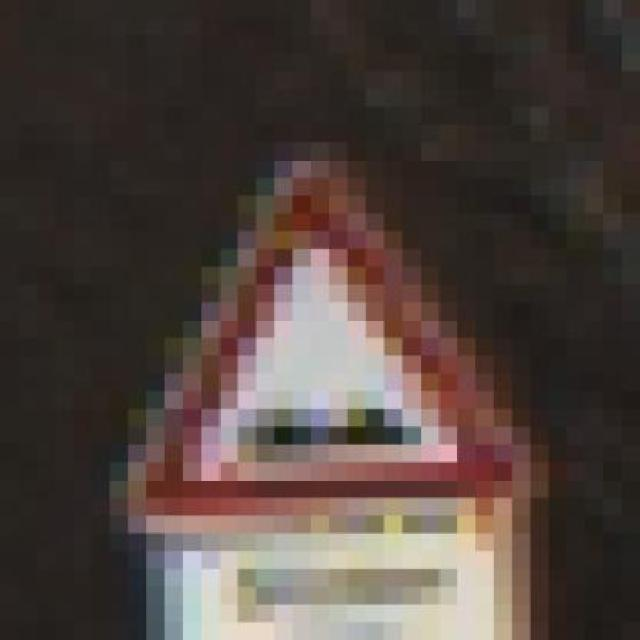Uneven Road: (91, 142, 567, 533)
